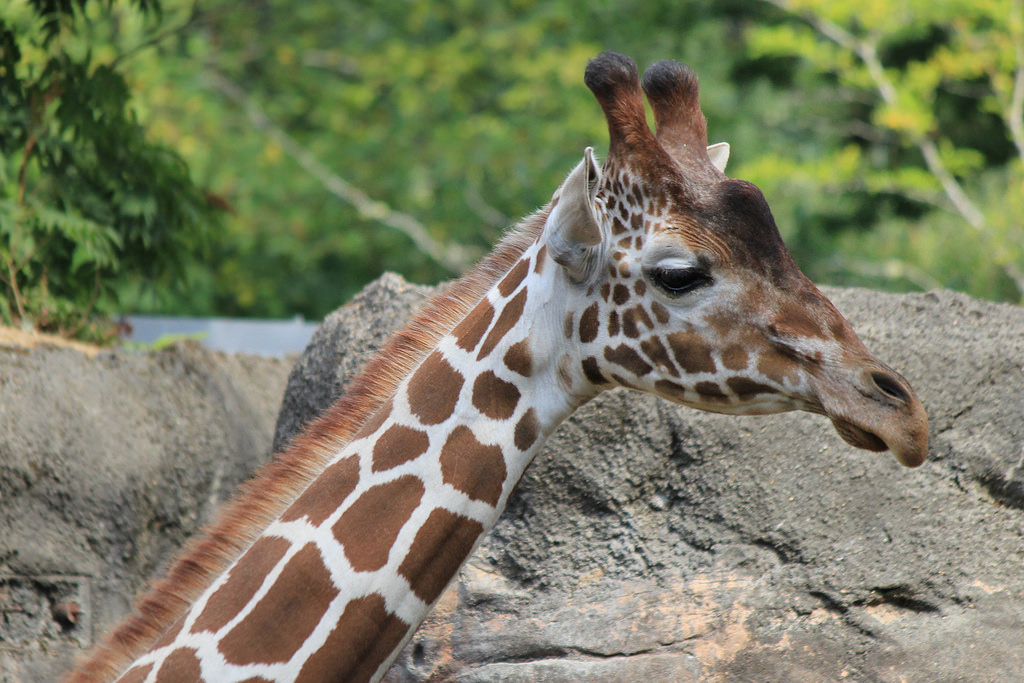giraffe: (152, 39, 924, 642)
